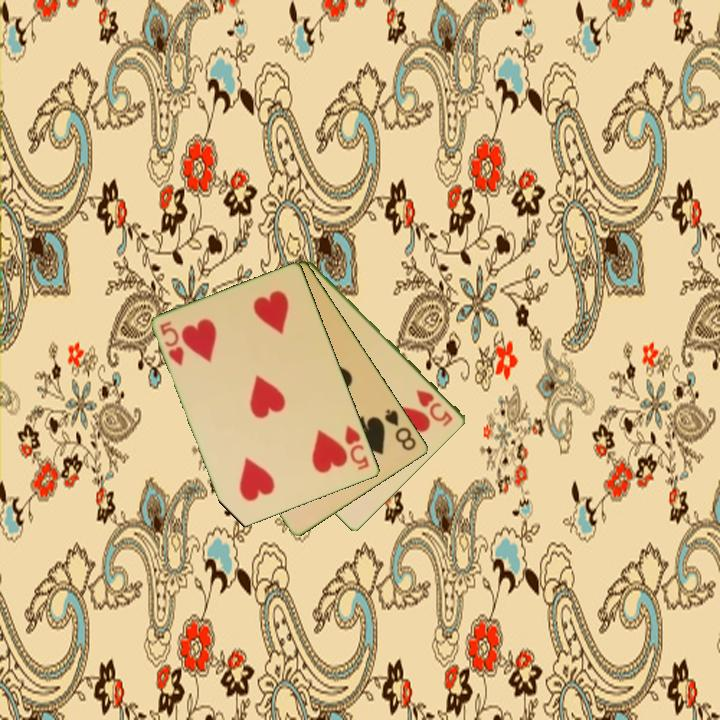5h: (413, 386, 456, 429), (156, 318, 188, 368), (341, 422, 372, 473)
8s: (381, 405, 420, 454)
